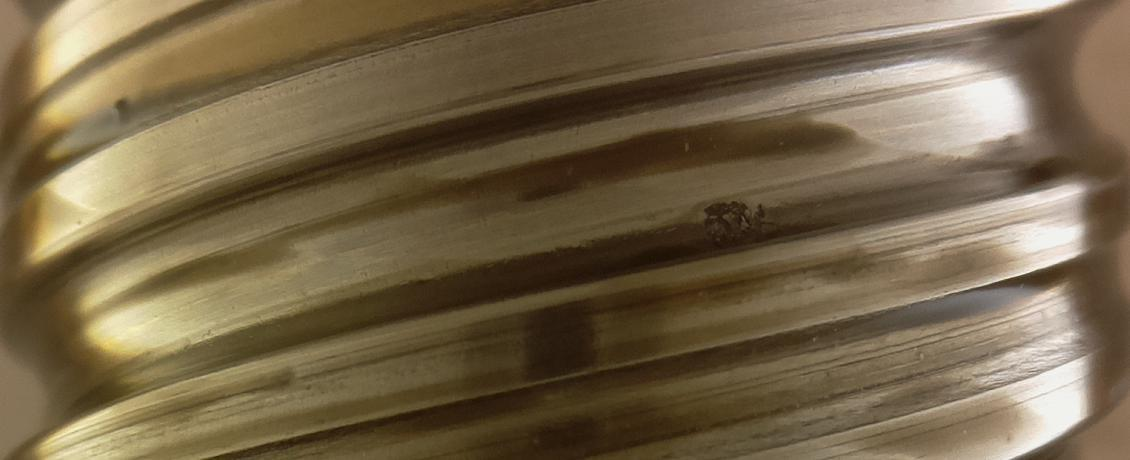pitting: (701, 200, 774, 249)
